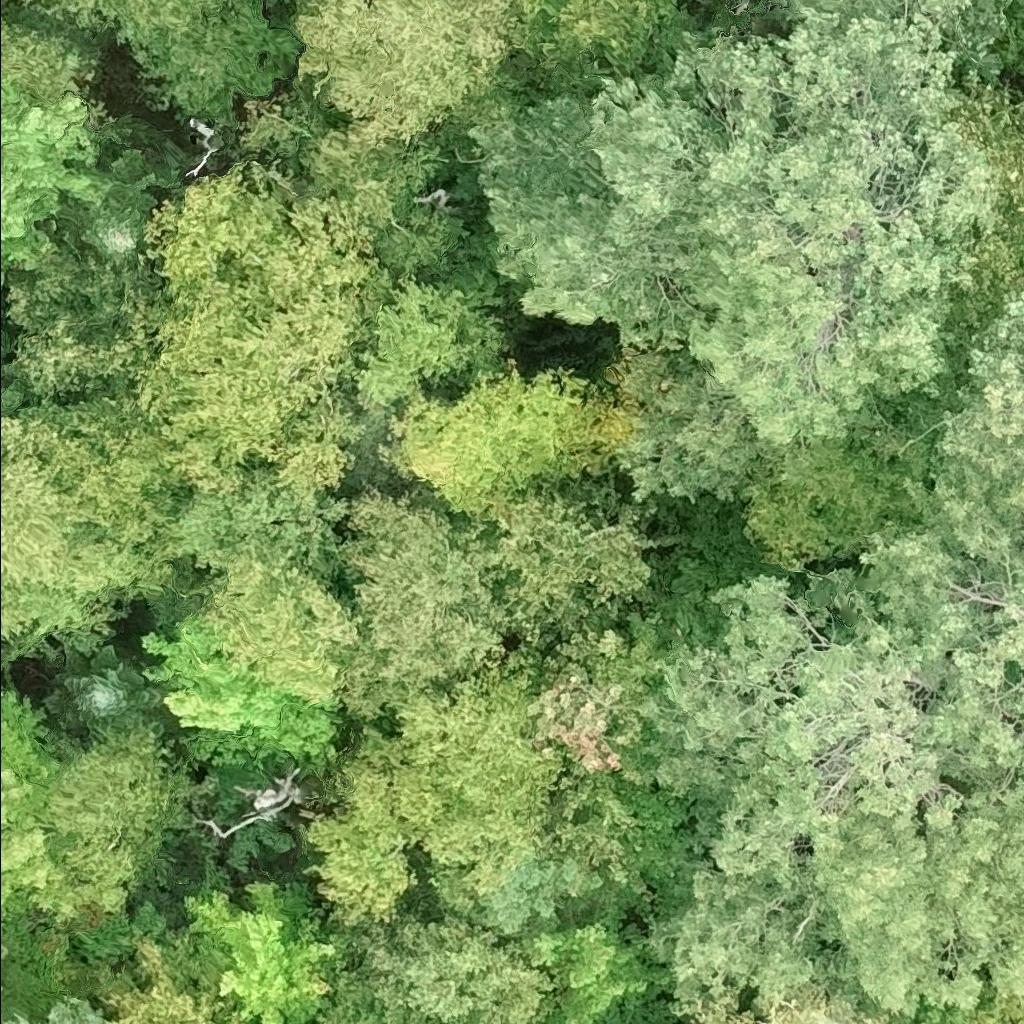crown: (467, 0, 1010, 504), (645, 571, 1023, 1023), (121, 147, 531, 494), (858, 449, 1023, 873), (58, 394, 368, 608), (310, 668, 562, 918), (524, 605, 709, 867), (345, 489, 513, 718), (381, 368, 637, 516), (294, 0, 526, 161), (25, 0, 304, 127), (0, 380, 120, 670), (141, 616, 342, 768), (0, 690, 127, 923), (477, 479, 652, 644), (192, 537, 368, 701), (0, 239, 166, 403), (0, 62, 111, 291), (290, 903, 499, 1023), (48, 726, 190, 890), (185, 881, 336, 1023), (368, 920, 555, 1023), (946, 71, 1023, 321), (510, 0, 697, 102), (938, 285, 1023, 465), (58, 149, 158, 267), (58, 644, 164, 740), (103, 938, 221, 1023), (473, 855, 602, 929), (0, 24, 98, 96), (699, 997, 882, 1023), (9, 994, 105, 1023), (186, 116, 221, 175), (970, 990, 1023, 1023), (225, 1007, 241, 1023), (0, 941, 10, 964), (0, 693, 6, 700), (0, 987, 3, 994)
